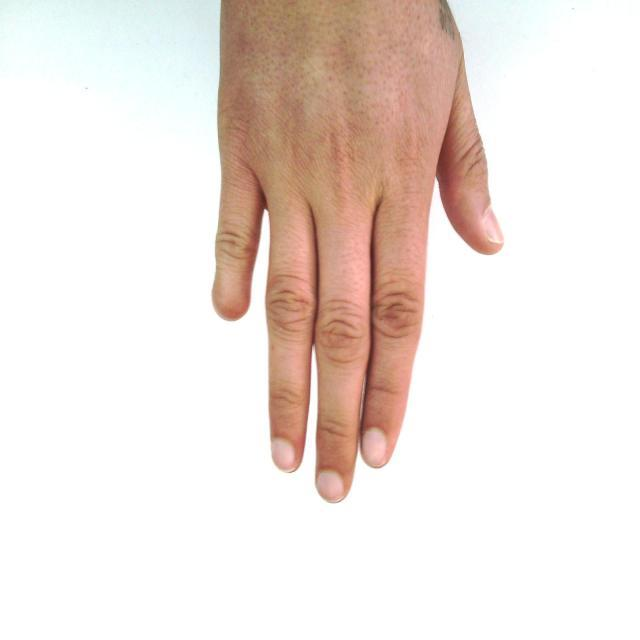Fingernail: (363, 429, 386, 466), (318, 471, 344, 502), (483, 207, 503, 244), (273, 440, 295, 471)
